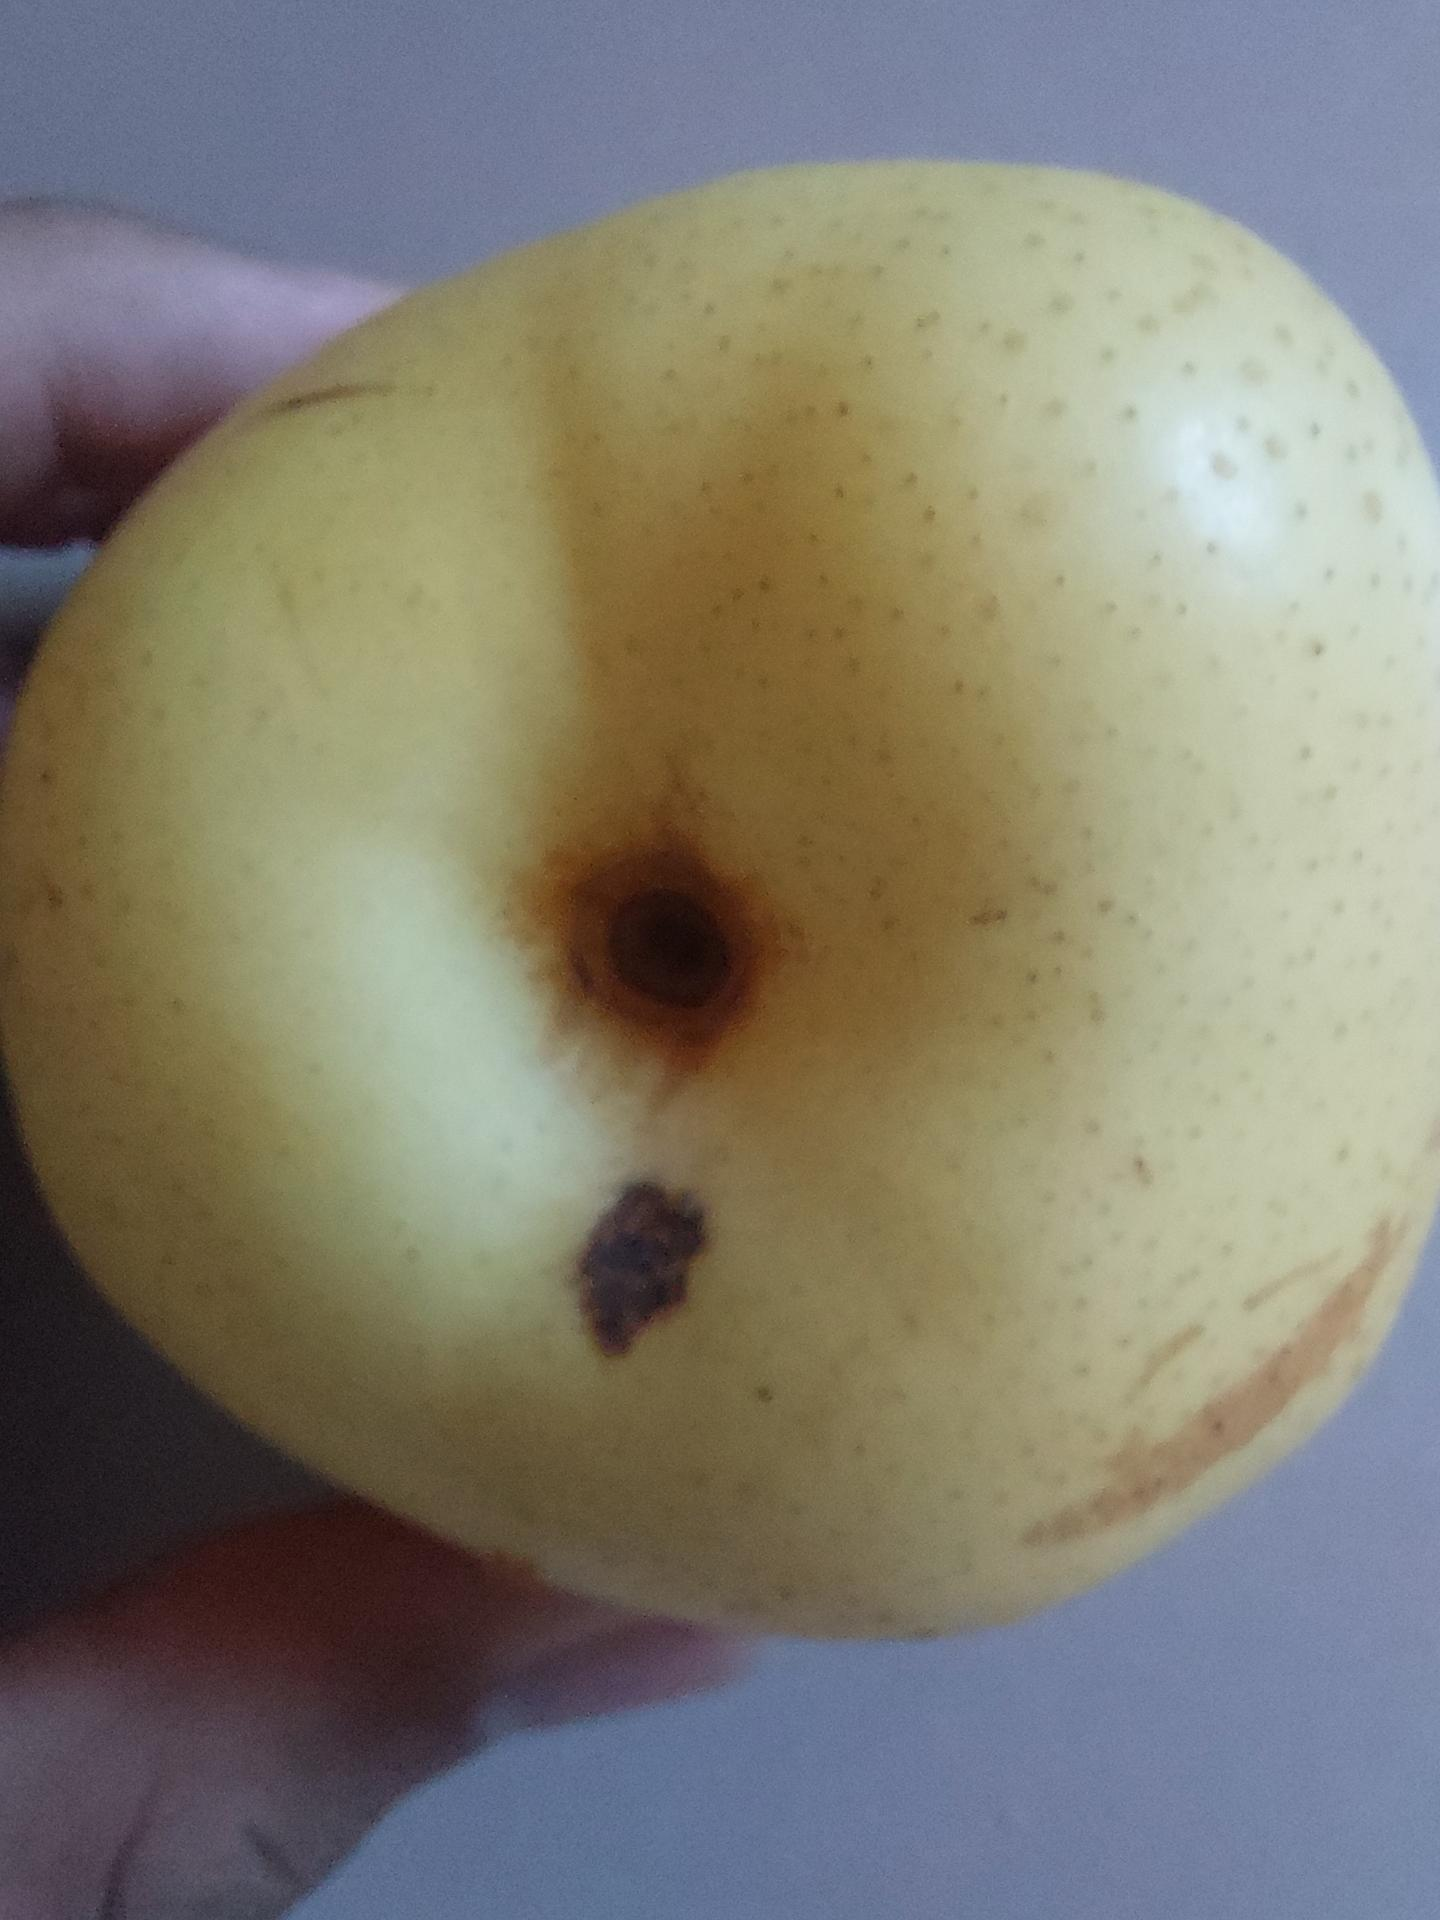Good Pear: (0, 153, 1440, 1637)
